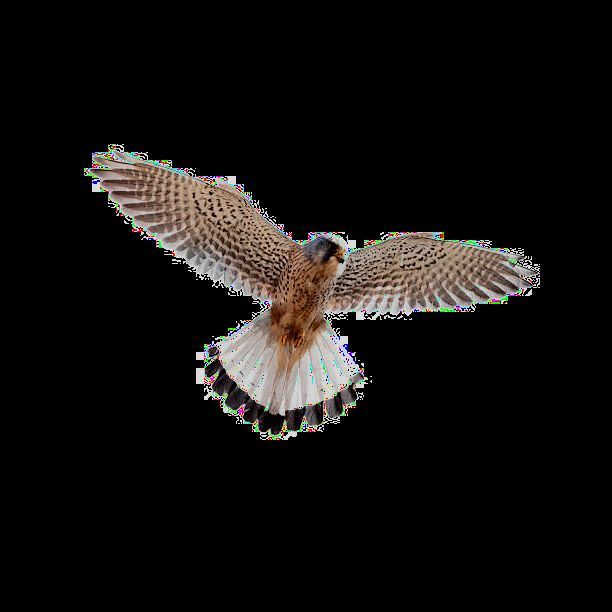Bird: (84, 141, 544, 441)
